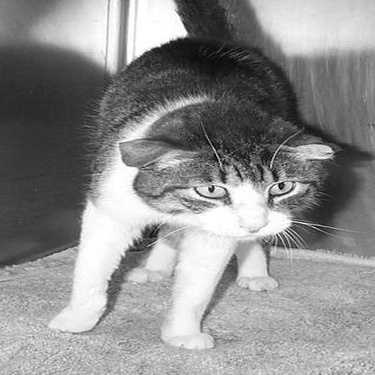cat: (44, 2, 344, 350)
